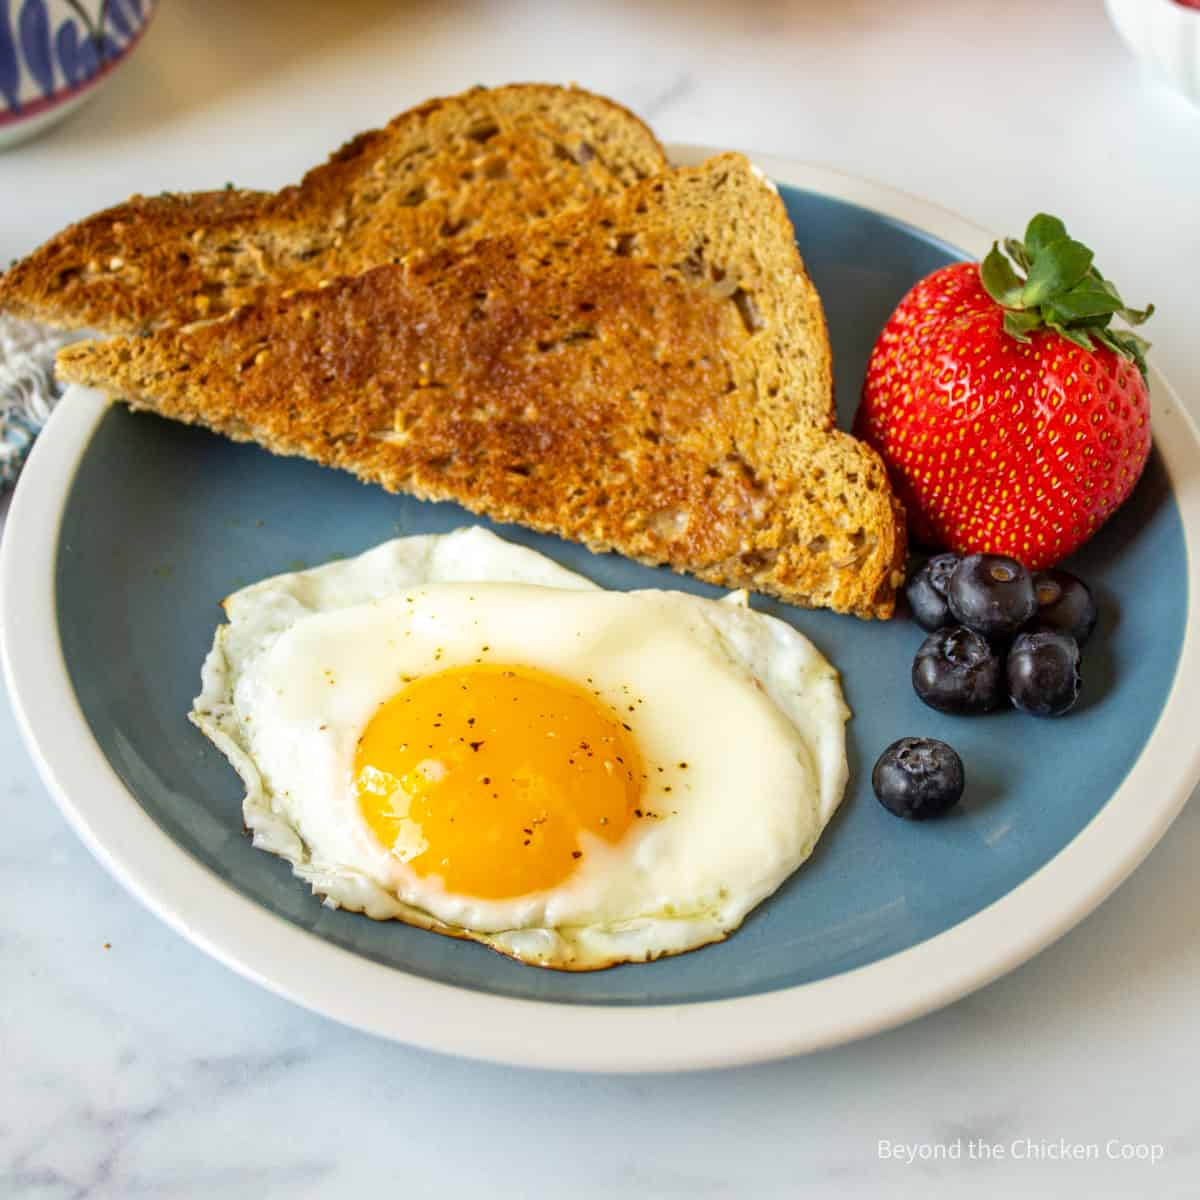Sunny Side Up: (184, 530, 866, 970)
Toast: (43, 149, 905, 584)
